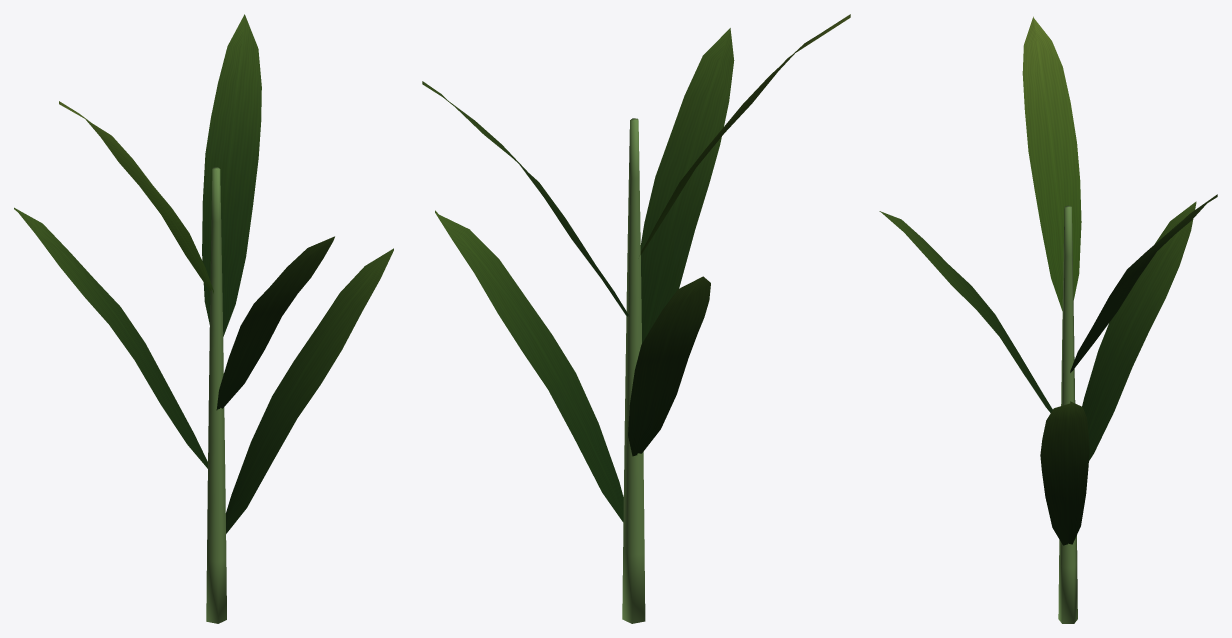
Rendered from iris-04-lod.glb.
3 views of the same model, side by side, from view 1: azimuth 30°, elevation 25°; view 2: azimuth 150°, elevation 25°; view 3: azimuth 270°, elevation 25° (orthographic). The views are drawn at different scales.
Visible parts, largest first — view 1: iris_stage_04_leaf_veins.007, iris_stage_04_stem_fibres.007, iris_stage_04_young_leaf.007; view 2: iris_stage_04_leaf_veins.007, iris_stage_04_stem_fibres.007, iris_stage_04_young_leaf.007; view 3: iris_stage_04_leaf_veins.007, iris_stage_04_young_leaf.007, iris_stage_04_stem_fibres.007.
Boxes of the visible parts, x1=… form: iris_stage_04_leaf_veins.007: x1=14, y1=14, x2=393, y2=533; iris_stage_04_stem_fibres.007: x1=206, y1=167, x2=226, y2=623; iris_stage_04_young_leaf.007: x1=59, y1=101, x2=213, y2=293; iris_stage_04_leaf_veins.007: x1=422, y1=28, x2=734, y2=521; iris_stage_04_stem_fibres.007: x1=622, y1=118, x2=645, y2=623; iris_stage_04_young_leaf.007: x1=640, y1=14, x2=850, y2=254; iris_stage_04_leaf_veins.007: x1=879, y1=194, x2=1217, y2=545; iris_stage_04_young_leaf.007: x1=1022, y1=16, x2=1081, y2=310; iris_stage_04_stem_fibres.007: x1=1058, y1=205, x2=1077, y2=623.
Bounding box in the file's own units: 0.1467 × 0.2271 × 0.132.
3 materials, 2 textured.
